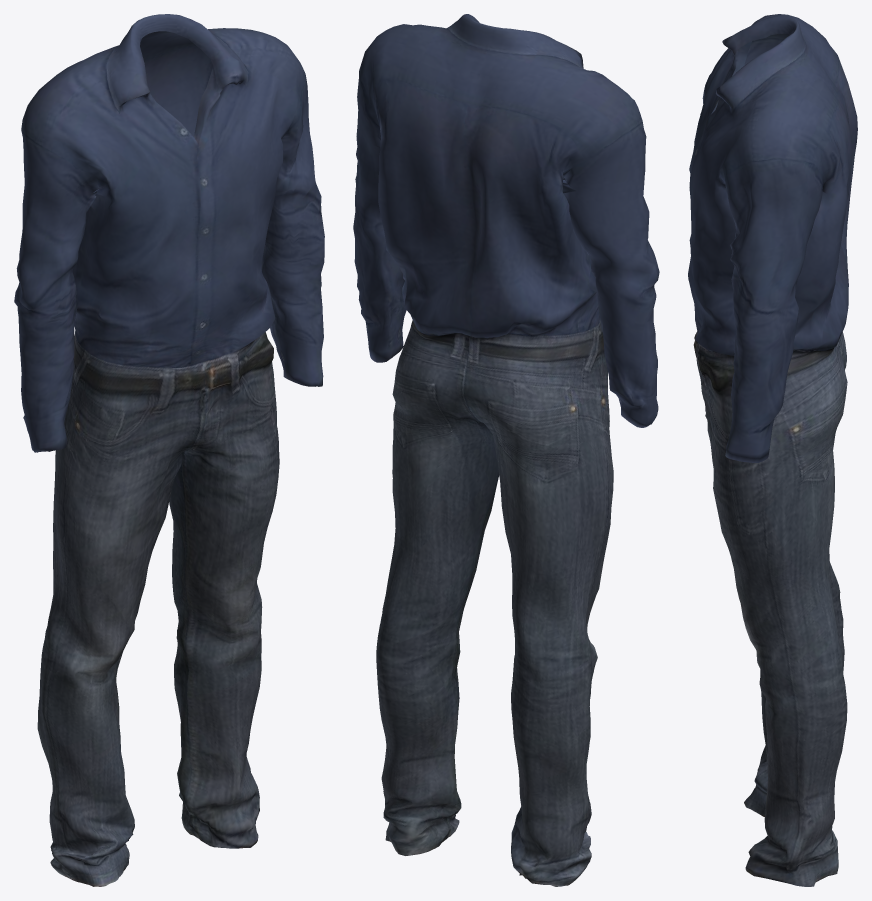
The model's file is bottom_jeans_belted.gltf.
3 views of the same model, side by side, from view 1: azimuth 30°, elevation 25°; view 2: azimuth 150°, elevation 25°; view 3: azimuth 270°, elevation 25° (orthographic). The views are drawn at different scales.
Visible parts, largest first — view 1: bottom_jeans_belted; view 2: bottom_jeans_belted; view 3: bottom_jeans_belted.
Part boxes in pixels (bbox=[...]): bottom_jeans_belted: bbox=[14, 14, 324, 886]; bottom_jeans_belted: bbox=[353, 14, 659, 886]; bottom_jeans_belted: bbox=[688, 14, 857, 886].
Size of the model in its own units: 0.5547 by 1.48 by 0.2784.
Materials: 1 (1 with a texture image).
